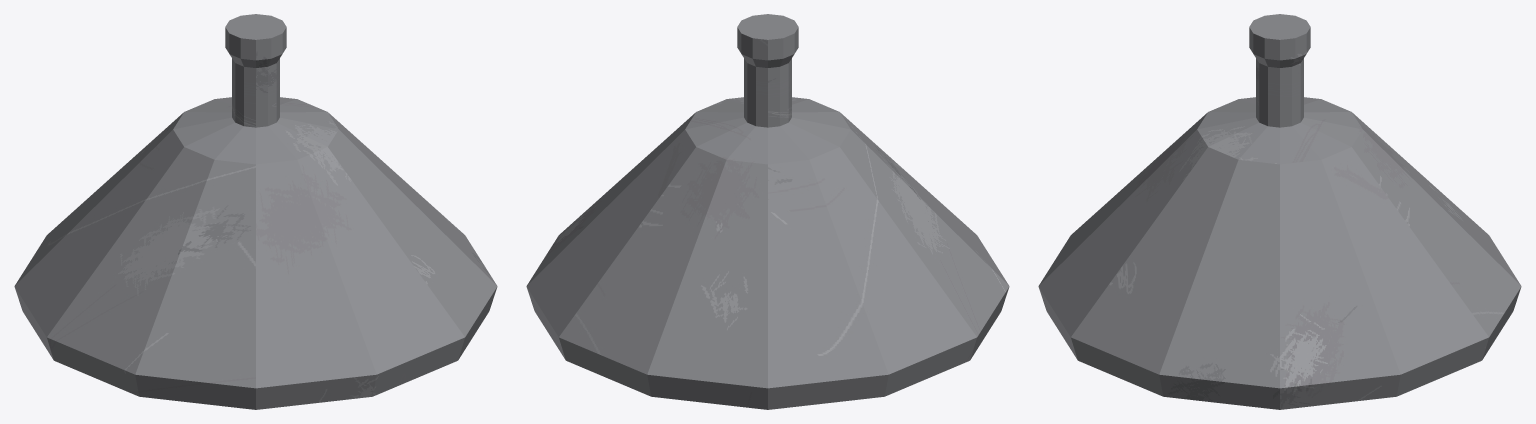
The model's file is lamp.fbx.
The picture shows the model from 3 angles, left to right: view 1: azimuth 30°, elevation 25°; view 2: azimuth 150°, elevation 25°; view 3: azimuth 270°, elevation 25°; orthographic projection.
Visible parts, largest first — view 1: lamp_shade; view 2: lamp_shade; view 3: lamp_shade.
Boxes of the visible parts, x1,y1,x2,y2 form: lamp_shade: (14, 14, 497, 409); lamp_shade: (526, 14, 1009, 409); lamp_shade: (1038, 14, 1521, 409).
Bounding box in the file's own units: 3.87 × 2.52 × 3.87.
Materials: 2 (1 with a texture image).
